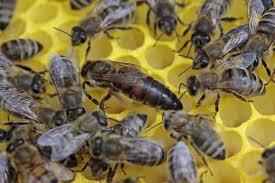Queen-Bee: (80, 52, 189, 118)
worker-bee: (60, 0, 139, 54), (161, 104, 232, 163), (40, 104, 110, 160), (192, 18, 261, 71), (185, 69, 275, 106), (42, 48, 88, 114), (0, 139, 68, 183), (94, 130, 167, 168), (187, 0, 232, 53), (146, 0, 182, 45), (254, 6, 275, 57)
